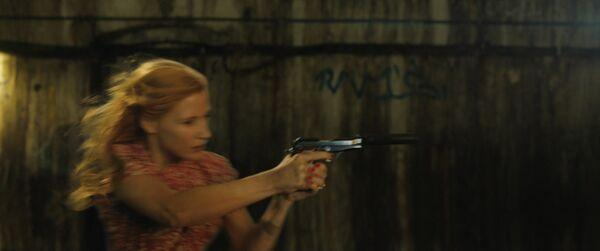Gun: (290, 136, 364, 163)
